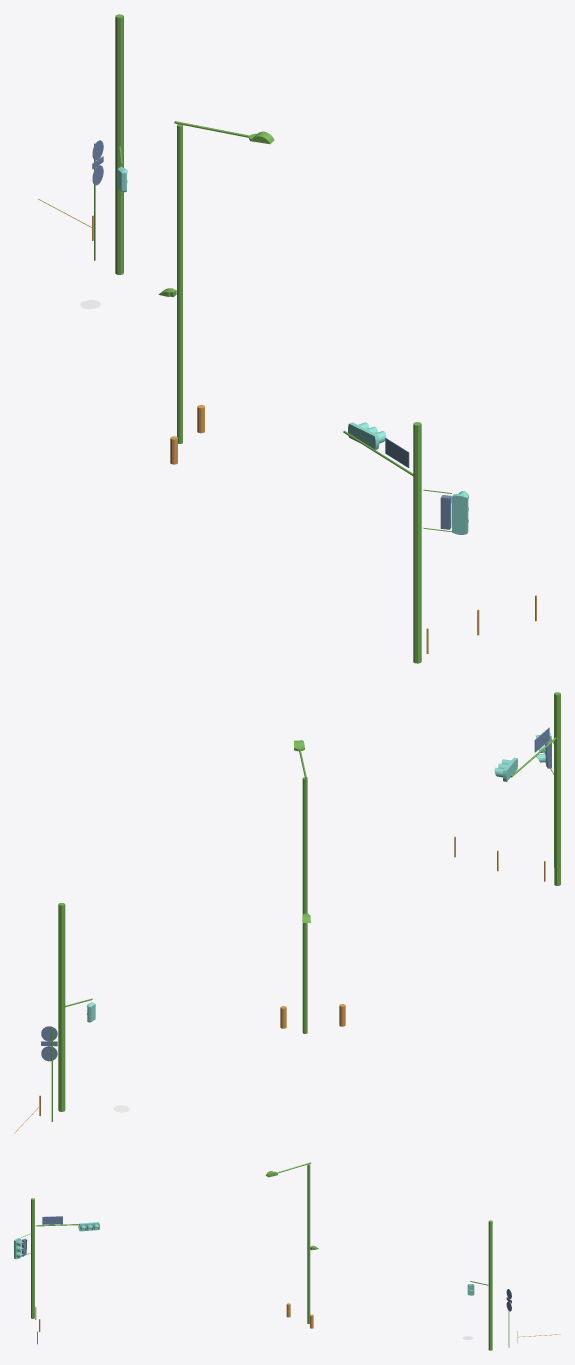
File: data210.glb
3 views of the same model, one above another, from view 1: azimuth 30°, elevation 25°; view 2: azimuth 150°, elevation 25°; view 3: azimuth 270°, elevation 25° (orthographic). The views are drawn at different scales.
Bounding box in the file's own units: 5.83 × 10.65 × 31.76.
